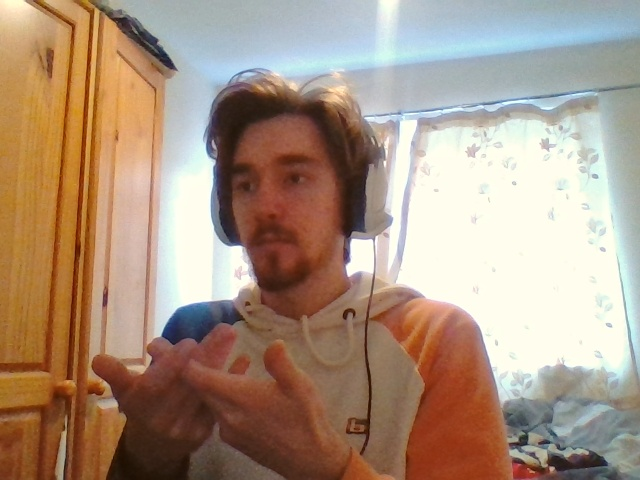how: (92, 324, 321, 459)
